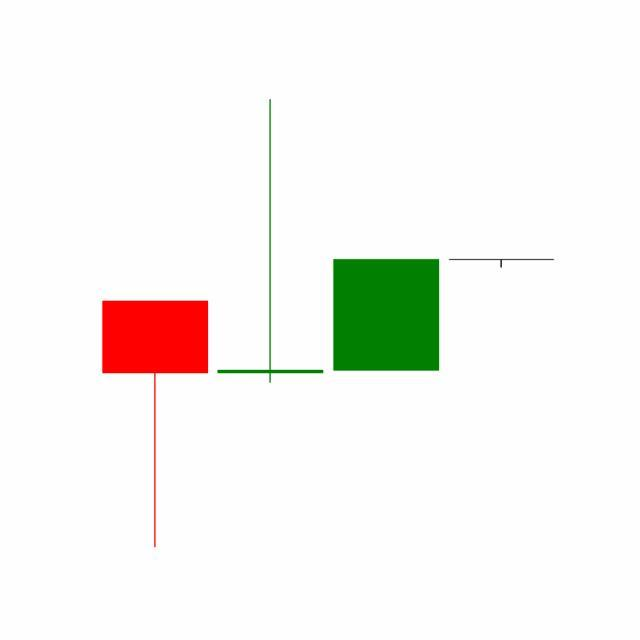Hammer: (444, 259, 560, 268)
